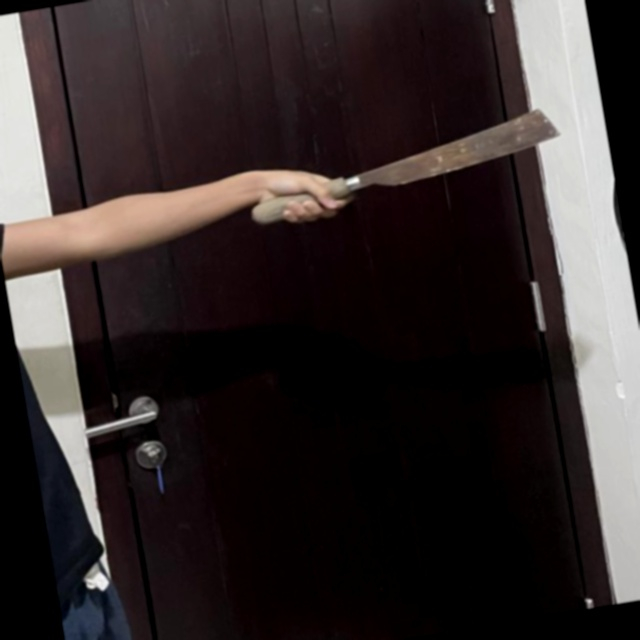Sharp-Object: (238, 103, 570, 231)
